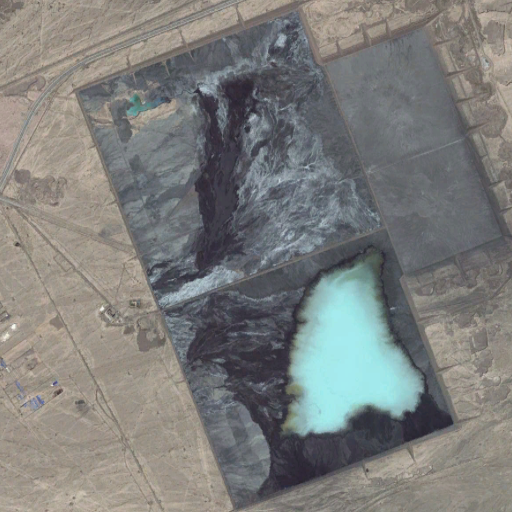tp: (70, 11, 509, 509)
